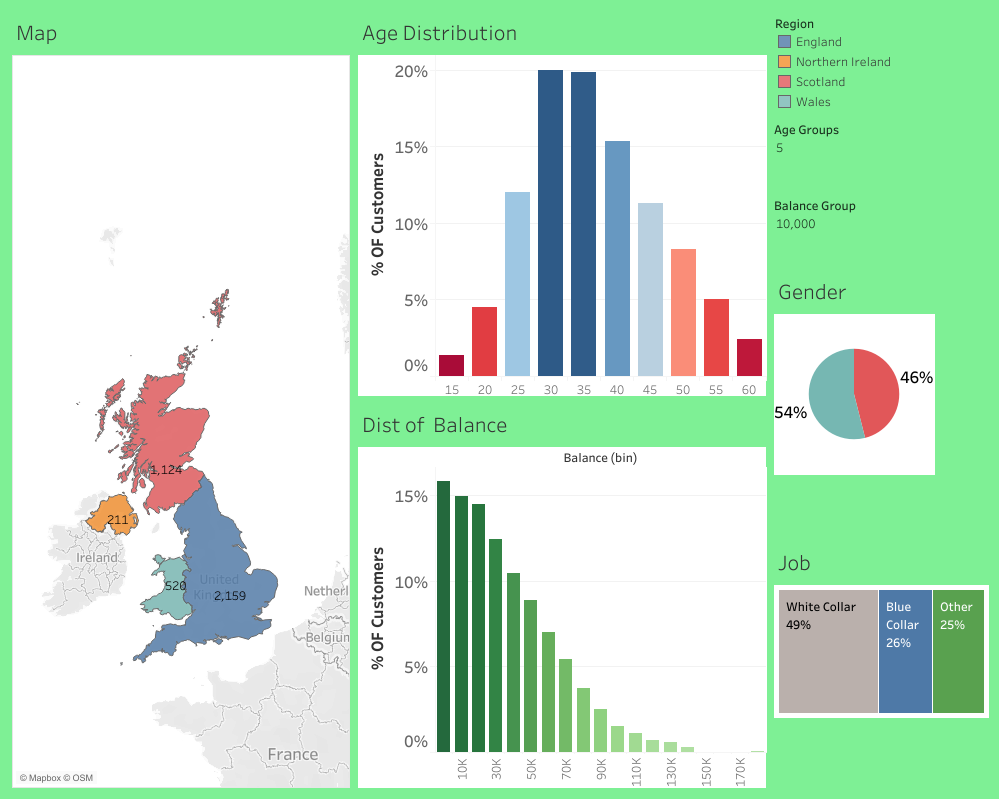

This screenshot's page, from the dashboard's own definition file:
{"tool":"tableau","page":{"name":"Dashboard 1","canvas":[1000,800],"ordinal":0},"visuals":[{"type":"worksheet","title":"Map","mark":"Multipolygon","box":[8,8,346.2,784]},{"type":"worksheet","title":"Distribution of Age","mark":"Automatic","rows":["P1-UK-Bank-Customers.csv_974AE3252D1847D6839A5395F95B3CE2"],"cols":["Age (bin)"],"box":[354.2,8,415.8,392]},{"type":"legend","title":"Map","param":"[federated.1lxib9j0t1uzsi1fznaus149piy2].[none:Region:nk]","box":[770,8,222,106]},{"type":"parameter","param":"[Parameters].[Parameter 2]","box":[770,114,222,75]},{"type":"parameter","param":"[Parameters].[Parameter 1]","box":[770,189,222,75]},{"type":"worksheet","title":"Gender","mark":"Pie","box":[770,264,222,271]},{"type":"worksheet","title":"Dist of  Balance","mark":"Automatic","rows":["P1-UK-Bank-Customers.csv_974AE3252D1847D6839A5395F95B3CE2"],"cols":["Balance (bin)"],"box":[354.2,400,415.8,392]},{"type":"worksheet","title":"Job","mark":"Automatic","box":[770,535,222,199]}]}

Visuals, with their boxes in screenshot pixels (x1, y1, x2, y2), scaled from the page's 1000x800 canvas onto the 999x799 screenshot:
"Map" worksheet (Multipolygon marks): {"left": 8, "top": 8, "right": 354, "bottom": 791}
"Distribution of Age" worksheet: {"left": 354, "top": 8, "right": 769, "bottom": 400}
"Map" legend: {"left": 769, "top": 8, "right": 991, "bottom": 114}
parameter: {"left": 769, "top": 114, "right": 991, "bottom": 189}
parameter: {"left": 769, "top": 189, "right": 991, "bottom": 264}
"Gender" worksheet (Pie marks): {"left": 769, "top": 264, "right": 991, "bottom": 534}
"Dist of  Balance" worksheet: {"left": 354, "top": 400, "right": 769, "bottom": 791}
"Job" worksheet: {"left": 769, "top": 534, "right": 991, "bottom": 733}
